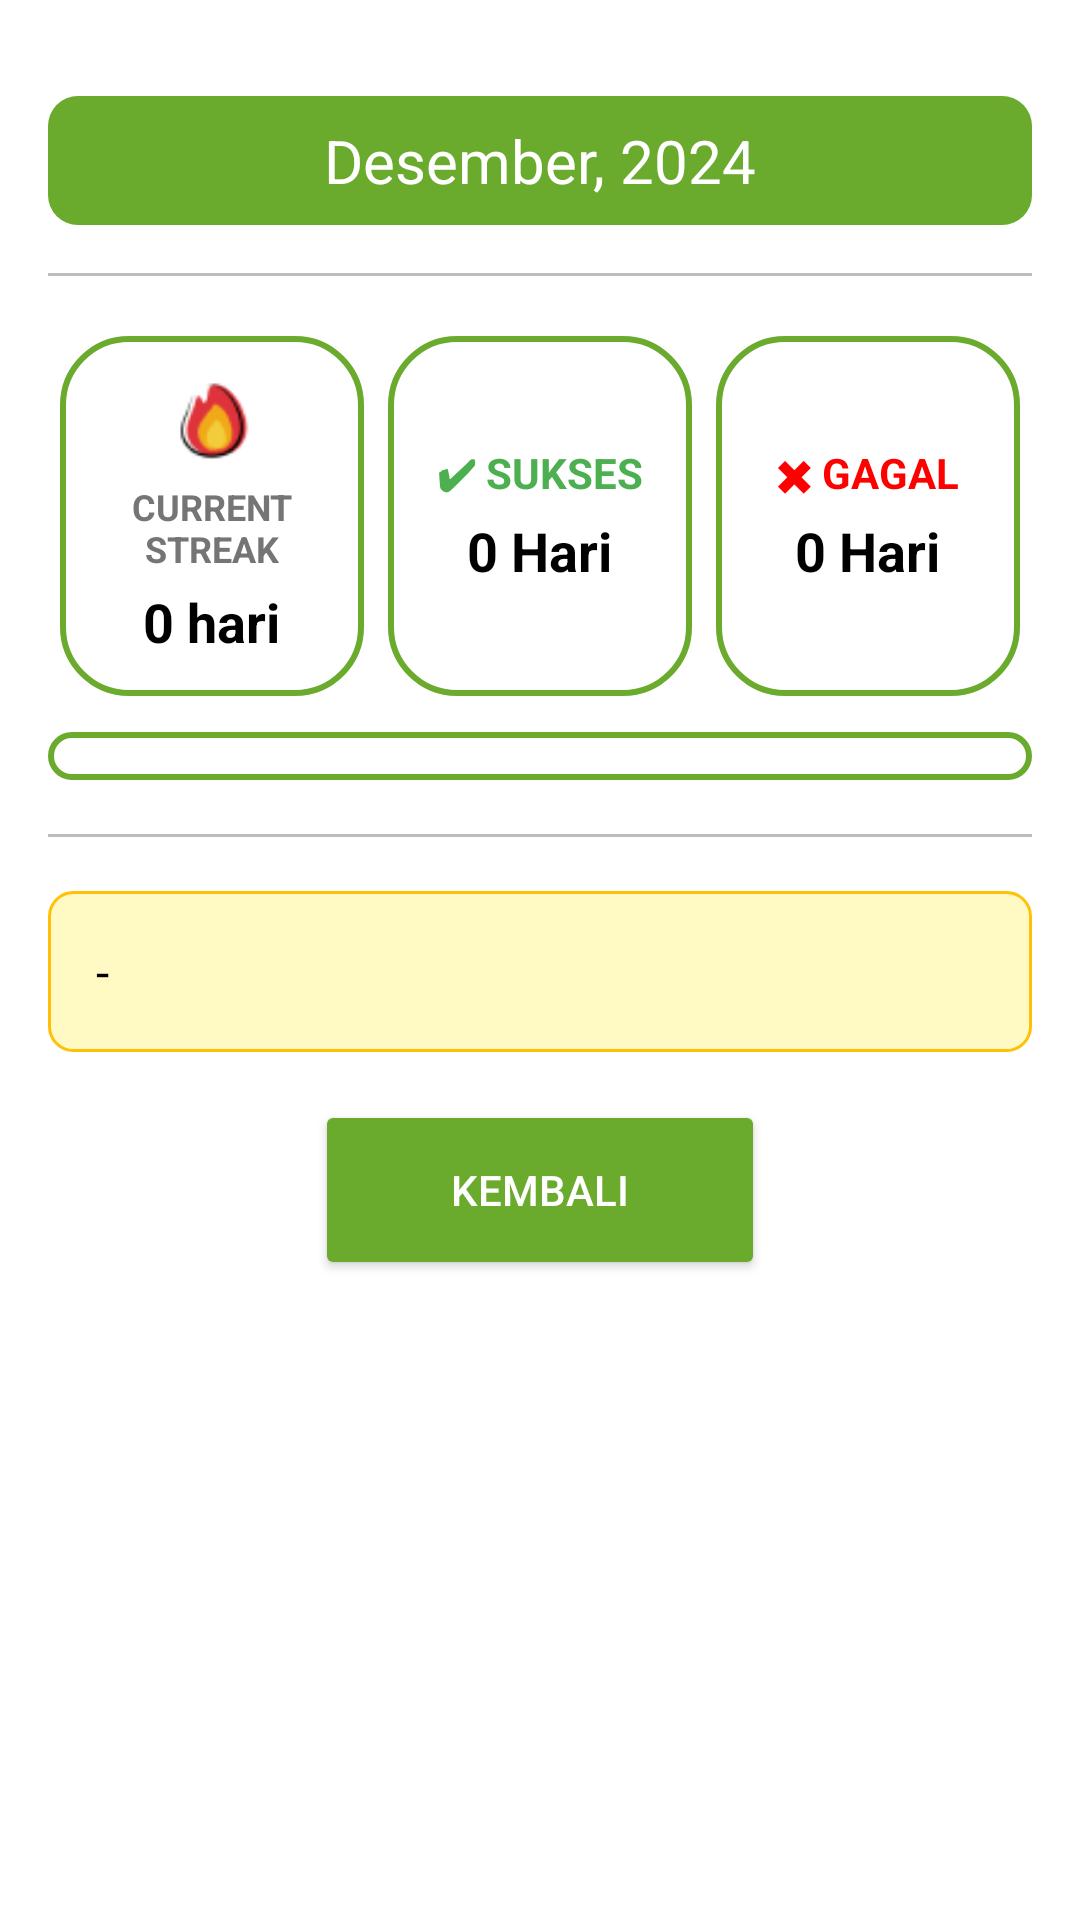

Named icons in this screenshot (1080px x 1920px) and their centers, (x=x, y=y):
fire: (x=214, y=421)
